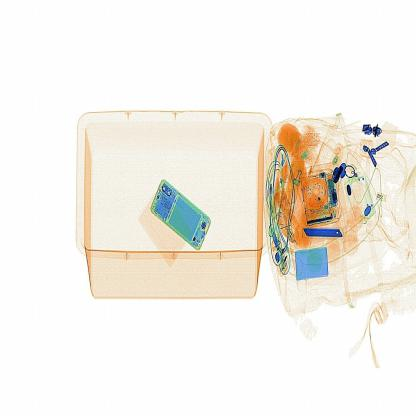pliers: (299, 221, 351, 248)
